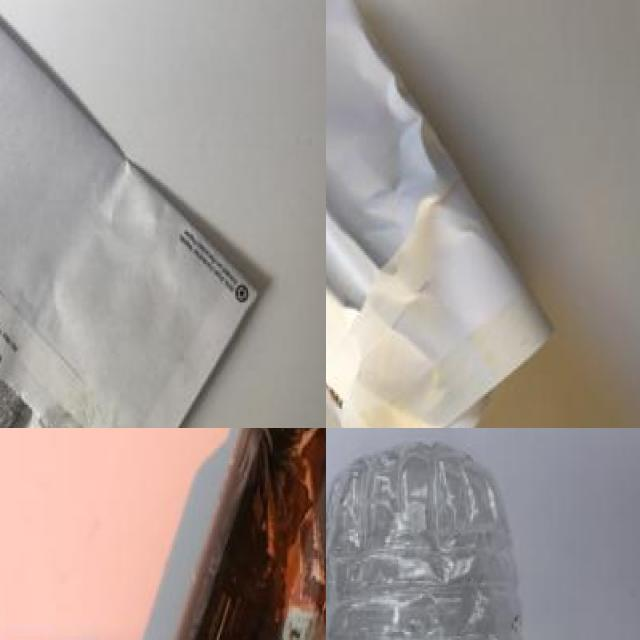paper: (0, 0, 258, 428), (326, 0, 542, 428)
plastic: (326, 435, 543, 640), (126, 428, 326, 640)
